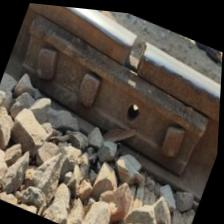person: (93, 11, 174, 92)
